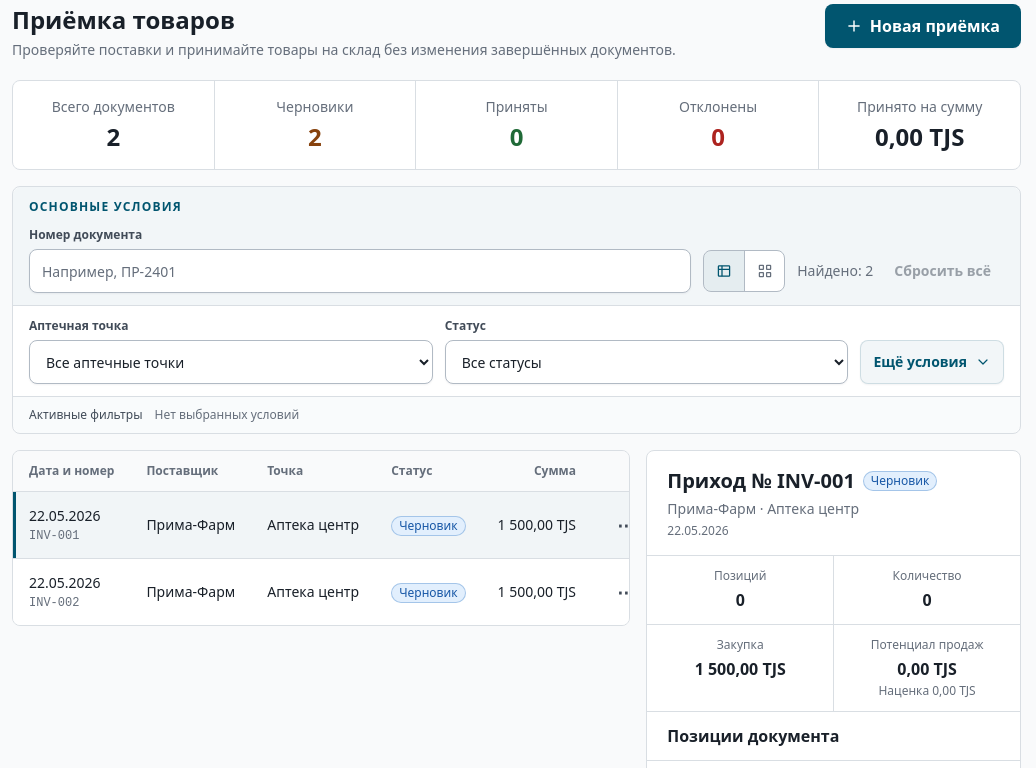
it: IncomingPage › loads details only for the selected document in the wide workspace
Expected: the row named "Открыть приход: INV-002" is shown, [13, 558, 630, 625]
Click the 2nd text "Прима-Фарм". click: coordinates (191, 592)
box: [130, 558, 251, 625]
(page scrolled)
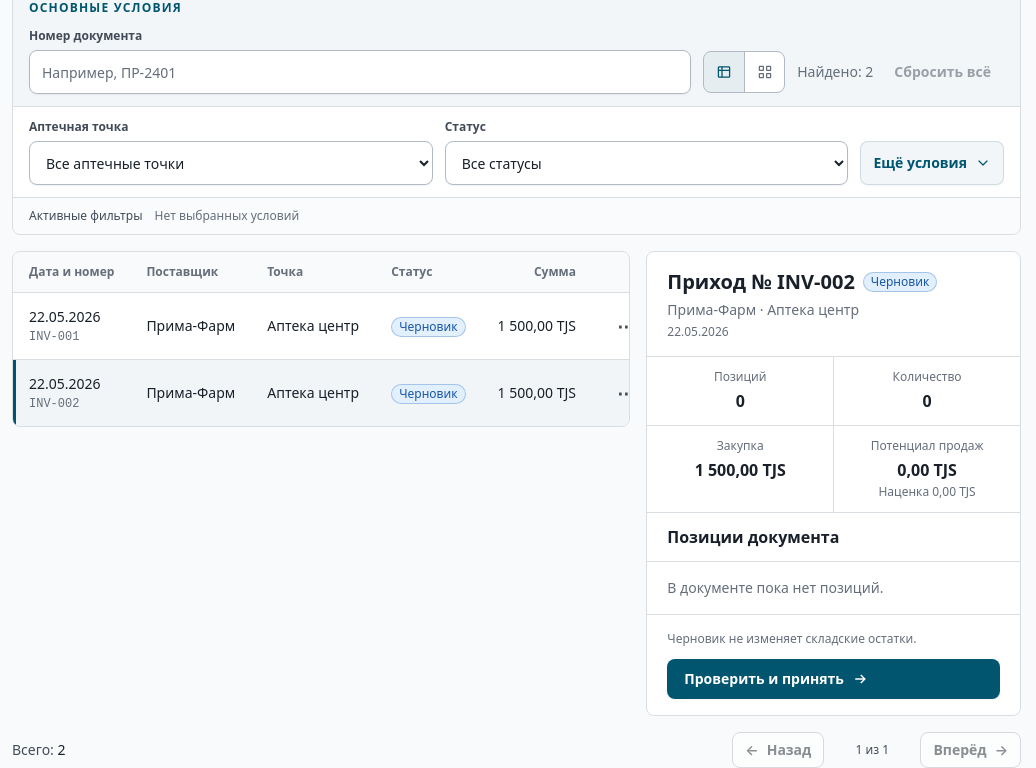
Expected: the element named "Карточка прихода: INV-002" is shown, [646, 251, 1021, 716]
